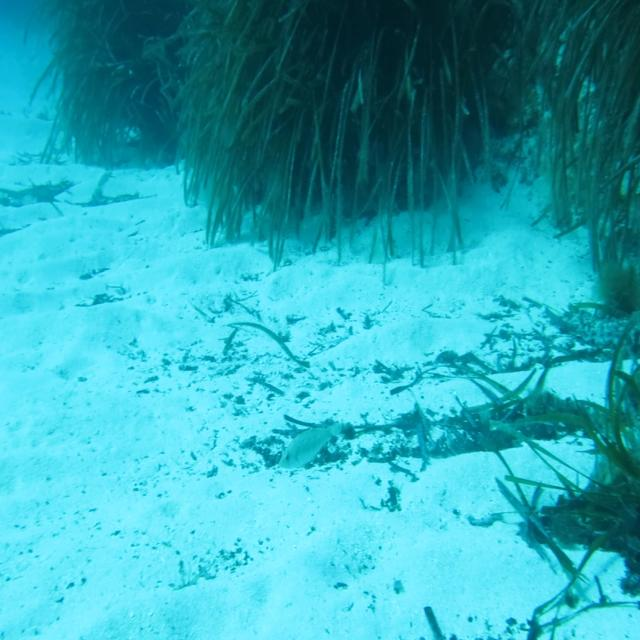BN: (275, 416, 347, 477)
vegetation: (286, 0, 639, 224), (18, 0, 282, 175), (542, 371, 640, 640)
